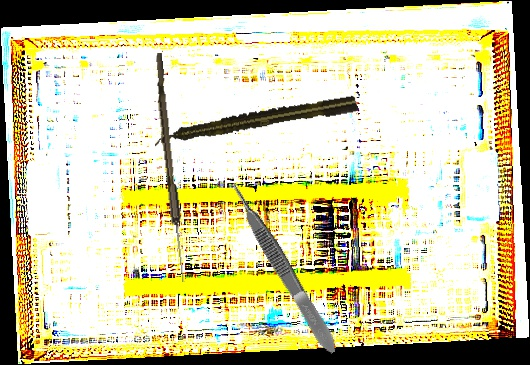Handpiece: (152, 93, 359, 149)
Surgical Spoon: (150, 52, 190, 283)
Tissue Forceps: (226, 177, 341, 358)
